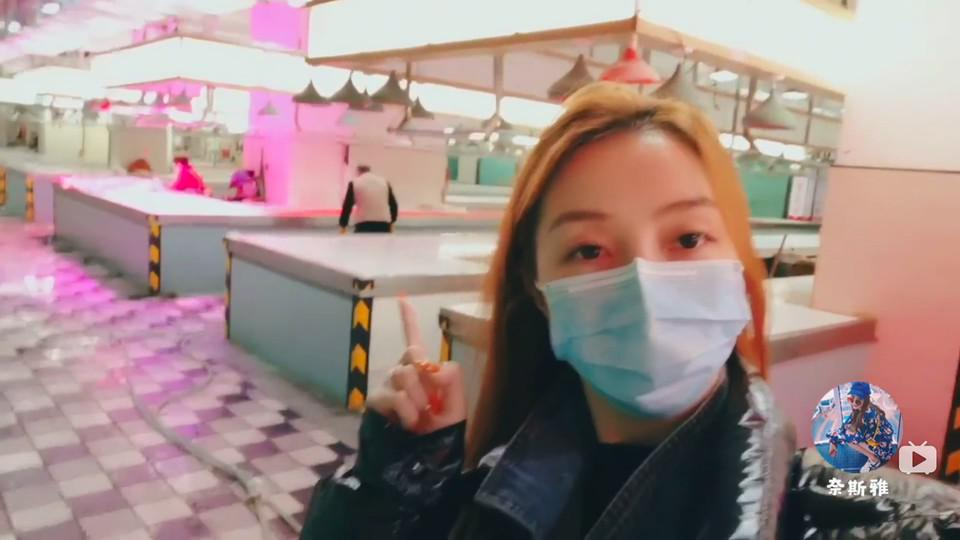OK: (543, 176, 747, 413)
